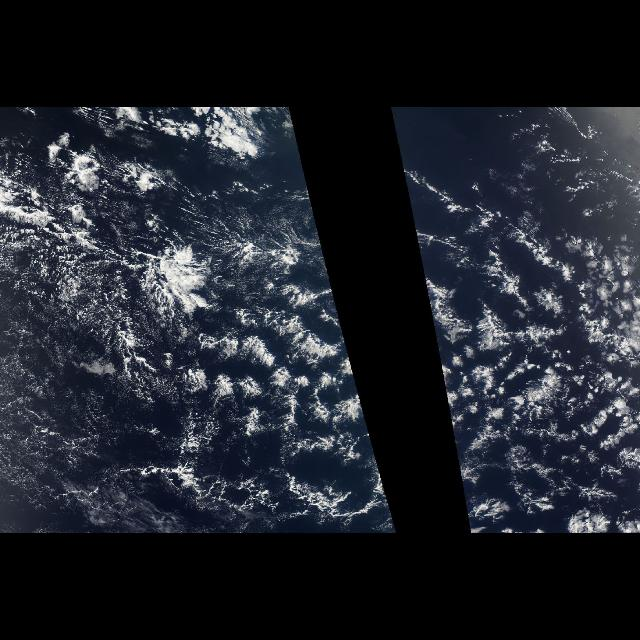Flower: (421, 206, 639, 457), (162, 242, 378, 466), (7, 256, 156, 530)
Sugar: (0, 301, 216, 533)
